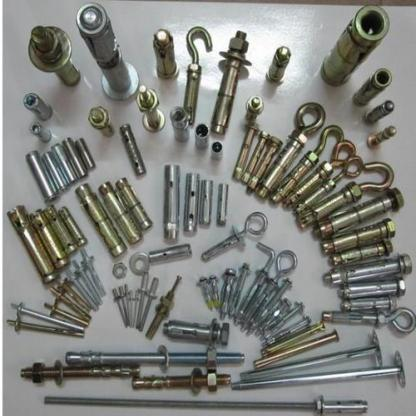FOD: (129, 252, 151, 276)
